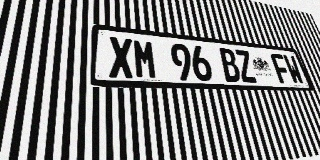6: (189, 45, 214, 81)
9: (169, 43, 195, 81)
B: (218, 48, 242, 82)
F: (270, 53, 293, 84)
M: (132, 39, 158, 79)
W: (282, 54, 305, 84)
X: (108, 36, 134, 78)
Z: (234, 49, 258, 83)
